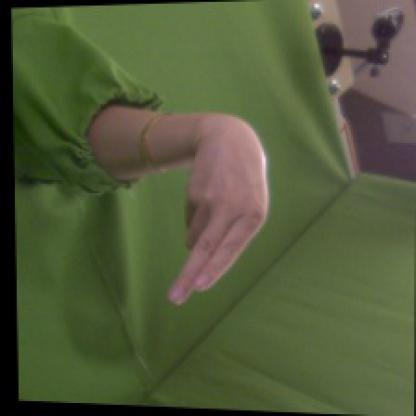Hand: (167, 113, 268, 307)
